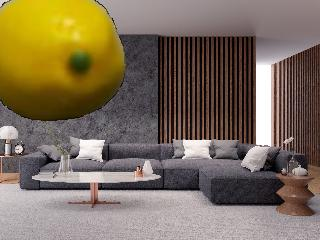lemon: (0, 0, 126, 122)
